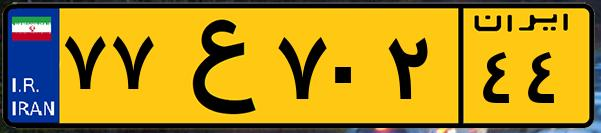0: (330, 28, 385, 110)
2: (385, 28, 445, 110)
4: (475, 38, 525, 113), (525, 38, 570, 115)
7: (270, 28, 330, 110), (57, 26, 110, 100), (110, 28, 158, 98)
ع: (158, 12, 270, 120)
